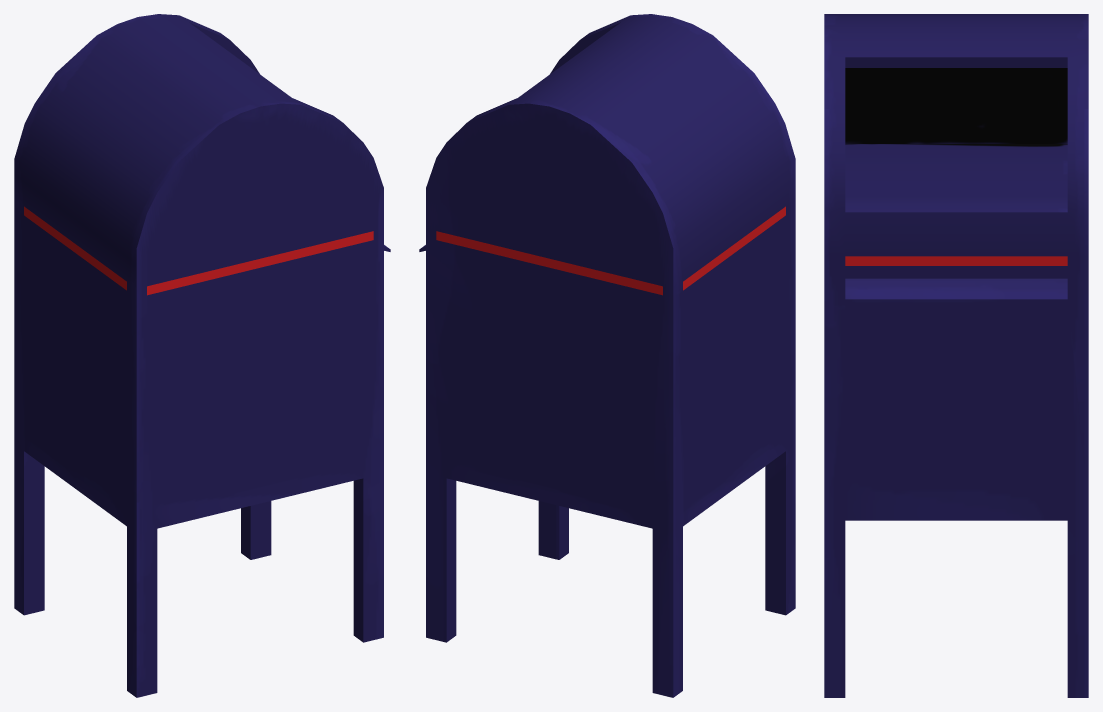
The model's file is Mail Box.fbx.
The picture shows the model from 3 angles, left to right: view 1: azimuth 30°, elevation 25°; view 2: azimuth 150°, elevation 25°; view 3: azimuth 270°, elevation 25°; orthographic projection. The views are drawn at different scales.
Parts seen in each view (by area): view 1: MailBox; view 2: MailBox; view 3: MailBox.
Boxes of the visible parts, left/top/right/bottom form: MailBox: left=14, top=14, right=390, bottom=697; MailBox: left=419, top=14, right=795, bottom=697; MailBox: left=824, top=14, right=1088, bottom=697.
Bounding box in the file's own units: 1.79 × 1.44 × 3.64.
